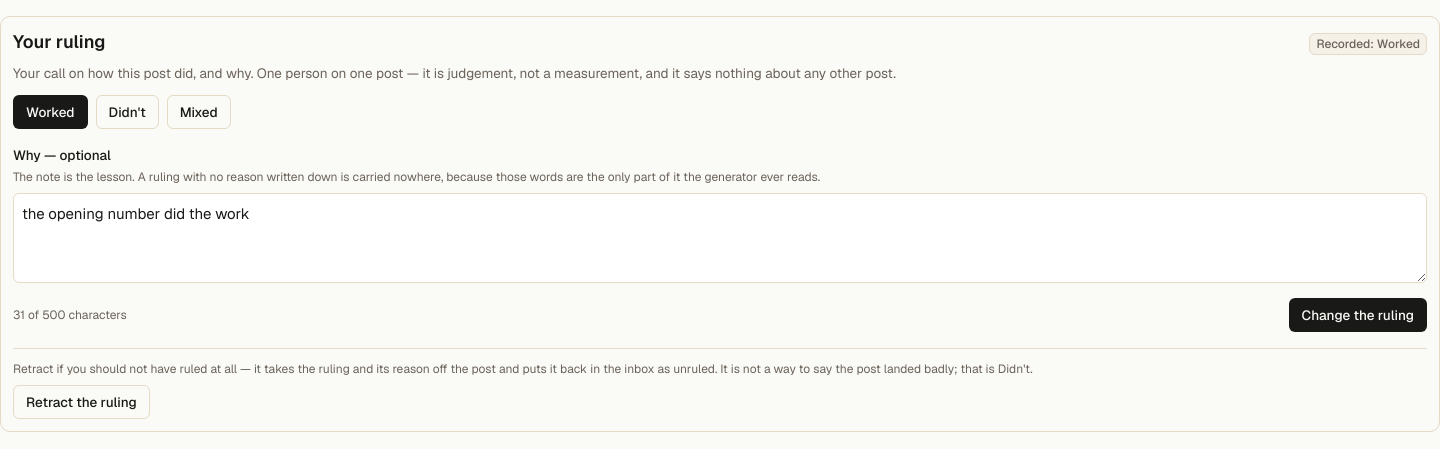
an existing verdict › can be changed, and the written reason is carried over rather than wiped
The image size is (1440, 449).
Click the button "Mixed".
click(199, 112)  # box [167,95,231,129]
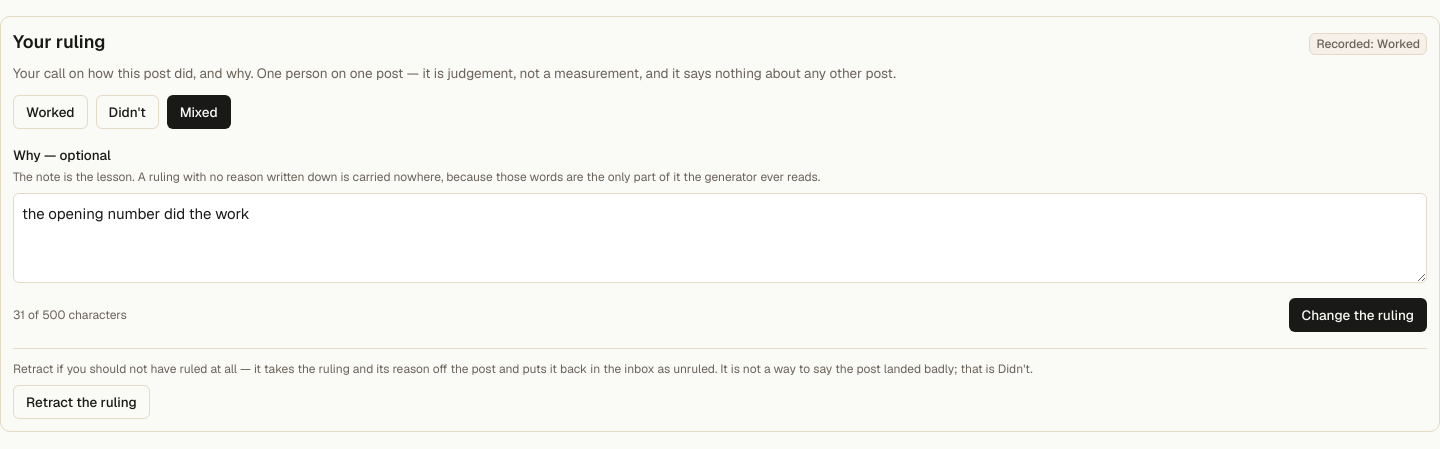
Click the button "Change the ruling".
click(1358, 315)  # box [1289,298,1427,332]
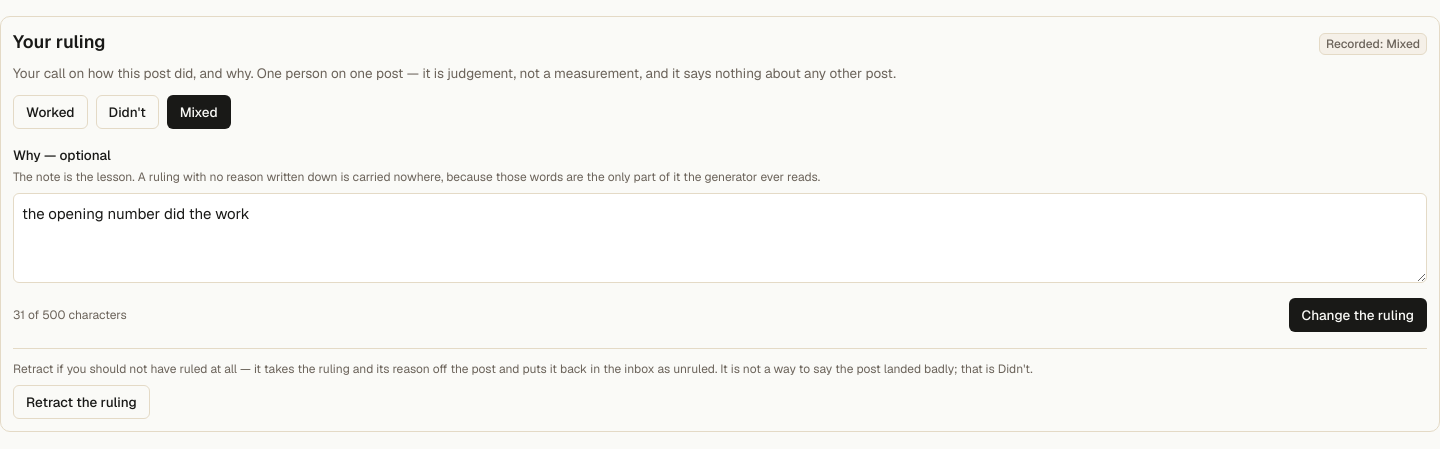
Expected: the text "Recorded: Mixed" is shown, [1319,33,1427,55]
